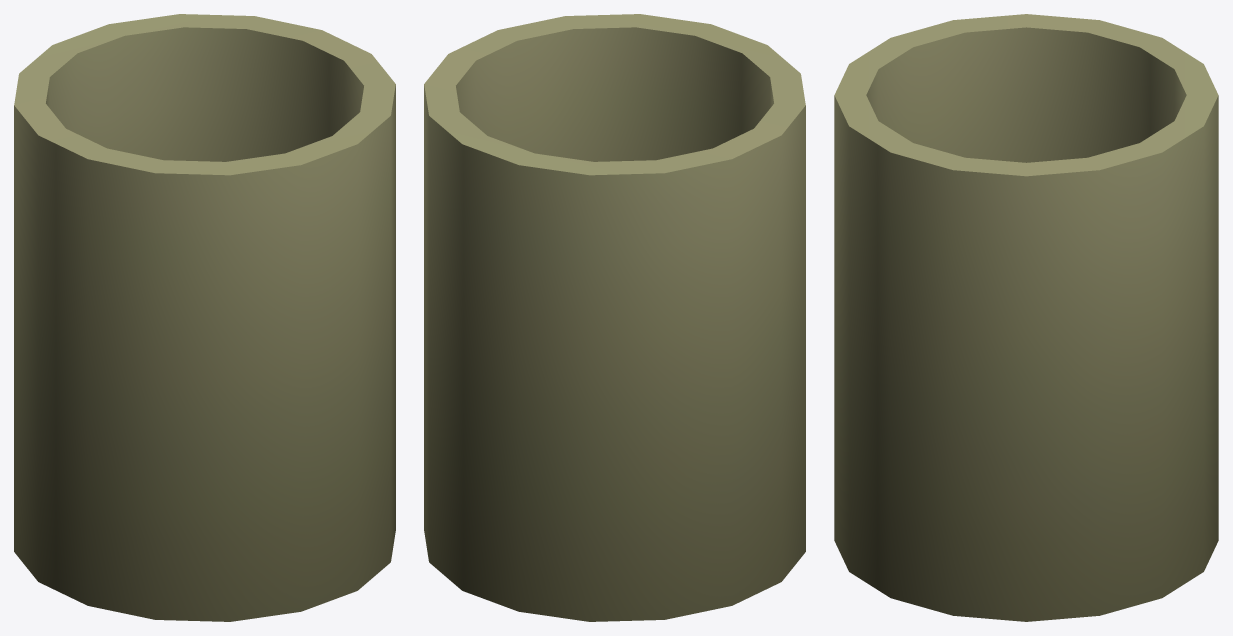
The model's file is Cup.fbx.
3 renders of one model, left to right at view 1: azimuth 30°, elevation 25°; view 2: azimuth 150°, elevation 25°; view 3: azimuth 270°, elevation 25°, orthographic.
Parts seen in each view (by area): view 1: Cup; view 2: Cup; view 3: Cup.
Part boxes in pixels (box(x1,y1,x2,y2)): Cup: box(14, 14, 395, 621); Cup: box(424, 14, 805, 621); Cup: box(834, 14, 1218, 621).
Size of the model in its own units: 0.1319 by 0.1319 by 0.1688.
